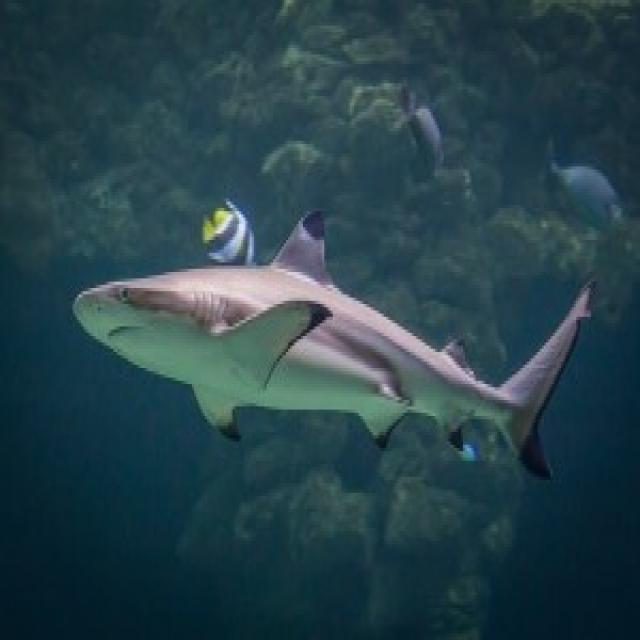Shark: (66, 183, 594, 492)
